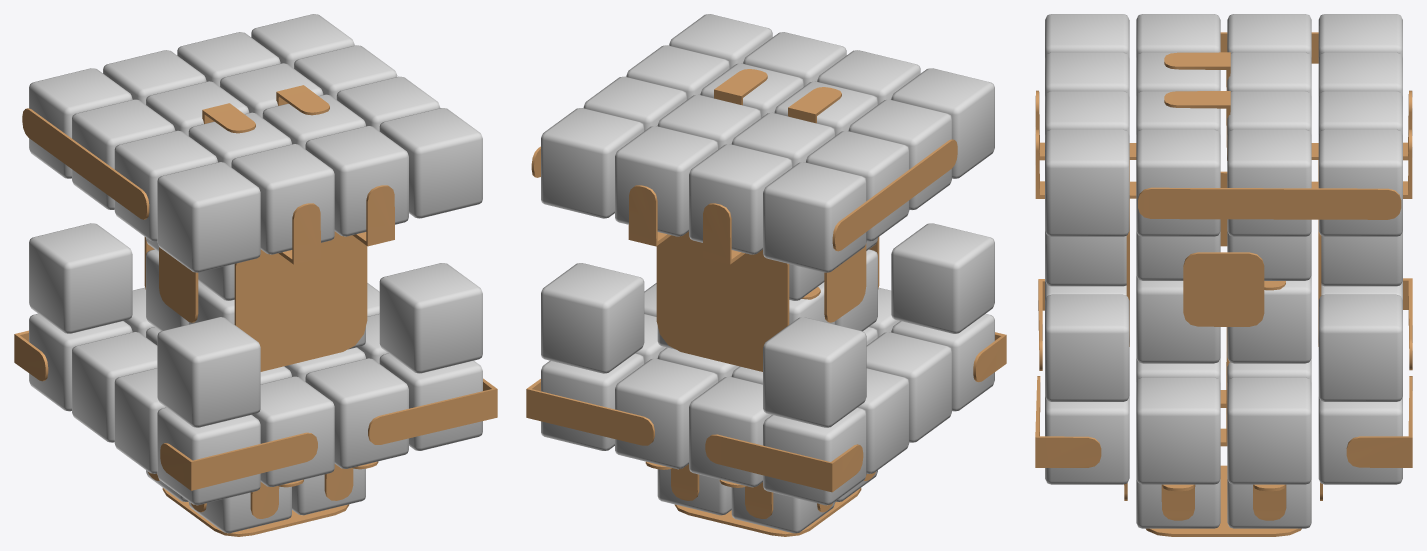
The model's file is level_148.fbx.
The picture shows the model from 3 angles, left to right: view 1: azimuth 30°, elevation 25°; view 2: azimuth 150°, elevation 25°; view 3: azimuth 270°, elevation 25°; orthographic projection. The views are drawn at different scales.
Parts seen in each view (by area): view 1: Link_2, Cube_L1_36, Cube_L1_38, Cube_L1_26, Cube_L1_40, Cube_L1_42, Cube_L1_49, Cube_L1_51, Cube_L1_50, Cube_L1_48, Cube_L1_22, Cube_L1_37 (+35 smaller); view 2: Link_1, Cube_L1_26, Cube_L1_36, Cube_L1_13, Cube_L1_28, Cube_L1_15, Cube_L1_7, Cube_L1_6, Cube_L1_8, Cube_L1_38, Cube_L1_5, Cube_L1_24 (+35 smaller); view 3: Cube_L1_13, Cube_L1_18, Cube_L1_40, Cube_L1_20, Cube_L1_42, Link_28, Cube_L1_15, Cube_L1_21, Cube_L1_19, Link_3, Cube_L1_14, Cube_L1_67 (+37 smaller).
Boxes of the visible parts, <box> form: Link_2: <box>234,231,367,371</box>; Cube_L1_36: <box>157,317,260,427</box>; Cube_L1_38: <box>157,162,260,272</box>; Cube_L1_26: <box>29,223,132,333</box>; Cube_L1_40: <box>379,263,482,373</box>; Cube_L1_42: <box>379,108,482,218</box>; Cube_L1_49: <box>231,144,334,254</box>; Cube_L1_51: <box>305,126,408,236</box>; Cube_L1_50: <box>305,358,408,468</box>; Cube_L1_48: <box>252,376,334,486</box>; Cube_L1_22: <box>72,332,157,442</box>; Cube_L1_37: <box>157,407,260,505</box>; Link_1: <box>656,231,789,371</box>; Cube_L1_26: <box>763,317,866,427</box>; Cube_L1_36: <box>891,223,994,333</box>; Cube_L1_13: <box>541,263,644,373</box>; Cube_L1_28: <box>763,162,866,272</box>; Cube_L1_15: <box>541,108,644,218</box>; Cube_L1_7: <box>615,358,718,469</box>; Cube_L1_6: <box>689,144,792,254</box>; Cube_L1_8: <box>615,126,718,236</box>; Cube_L1_38: <box>891,68,994,178</box>; Cube_L1_5: <box>689,376,771,487</box>; Cube_L1_24: <box>866,332,951,442</box>; Cube_L1_13: <box>1318,294,1402,401</box>; Cube_L1_18: <box>1227,377,1311,484</box>; Cube_L1_40: <box>1045,294,1129,401</box>; Cube_L1_20: <box>1136,377,1220,484</box>; Cube_L1_42: <box>1045,129,1129,236</box>; Link_28: <box>1138,187,1401,219</box>; Cube_L1_15: <box>1318,129,1402,236</box>; Cube_L1_21: <box>1136,129,1220,236</box>; Cube_L1_19: <box>1227,129,1311,236</box>; Link_3: <box>1183,252,1264,326</box>; Cube_L1_14: <box>1318,396,1402,484</box>; Cube_L1_67: <box>1136,276,1220,363</box>.
Size of the model in its own units: 9.26 by 11.48 by 9.26.
